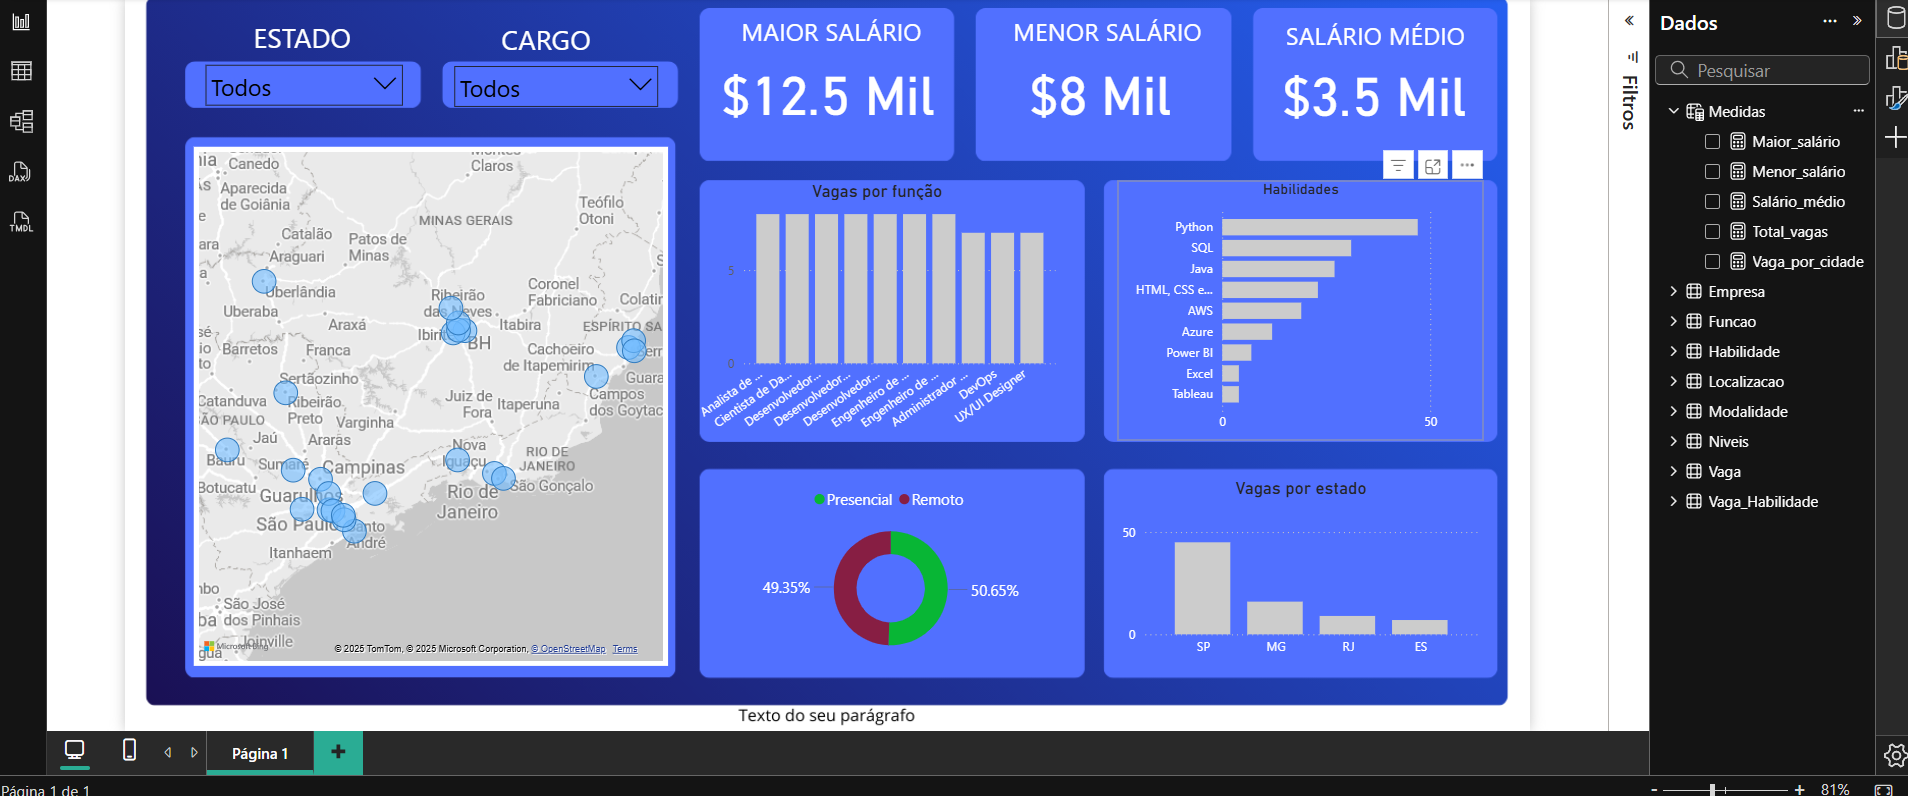

The page's visual inventory and layout, read from the dashboard file:
{"tool":"powerbi","page":{"name":"Page 1","canvas":[1280,720],"ordinal":0},"visuals":[{"type":"slicer","fields":{"Values":["localizacao.estado"]},"box":[6.1,90.8,250.3,130.1],"z":0},{"type":"slicer","fields":{"Values":["funcao.nome_funcao"]},"box":[6.1,414.7,250.3,305.5],"z":1000},{"type":"cardVisual","fields":{"Data":["vaga.Maior_salário"]},"box":[289.6,0,224.5,137.4],"z":2000},{"type":"cardVisual","fields":{"Data":["vaga.Menor_salário"]},"box":[565.6,11,177.9,115.3],"z":3000},{"type":"cardVisual","fields":{"Data":["vaga.Salário_médio"]},"box":[797.6,3.7,233.1,133.7],"z":4000},{"type":"clusteredColumnChart","title":"Quantidade de vagas por estado","fields":{"Y":["vaga.Total_vagas"],"Category":["localizacao.estado"]},"box":[797.6,433.1,482.2,277.3],"z":5000},{"type":"clusteredBarChart","title":"Ferramentas mais requisitadas","fields":{"Category":["habilidade.nome_habilidade"],"Y":["CountNonNull(vaga_habilidade.id_habilidade)"]},"box":[797.6,155.8,482.2,277.3],"z":6000},{"type":"cardVisual","fields":{"Data":["vaga.Total_vagas"]},"box":[1051.5,3.7,228.2,133.7],"z":8000},{"type":"donutChart","fields":{"Category":["modalidade.nome_modalidade"],"Y":["vaga.Total_vagas"]},"box":[289.6,433.1,492,277.3],"z":9000},{"type":"filledMap","fields":{"Category":["localizacao.cidade"]},"box":[289.6,155.8,492,277.3],"z":10000},{"type":"slicer","fields":{"Values":["localizacao.cidade"]},"box":[6.1,231.9,250.3,170.6],"z":10001}]}

Visuals, with their boxes on the page's 1280x720 design canvas (x1, y1, x2, y2). These are canvas units, not pixel positions in the 1908x796 screenshot, which may show the page scaled, cropped or inside an application window:
slicer - localizacao.estado: [6,91,256,221]
slicer - funcao.nome_funcao: [6,415,256,720]
cardVisual - vaga.Maior_salário: [290,0,514,137]
cardVisual - vaga.Menor_salário: [566,11,744,126]
cardVisual - vaga.Salário_médio: [798,4,1031,137]
"Quantidade de vagas por estado" clusteredColumnChart: [798,433,1280,710]
"Ferramentas mais requisitadas" clusteredBarChart: [798,156,1280,433]
cardVisual - vaga.Total_vagas: [1052,4,1280,137]
donutChart - modalidade.nome_modalidade x vaga.Total_vagas: [290,433,782,710]
filledMap - localizacao.cidade: [290,156,782,433]
slicer - localizacao.cidade: [6,232,256,402]
